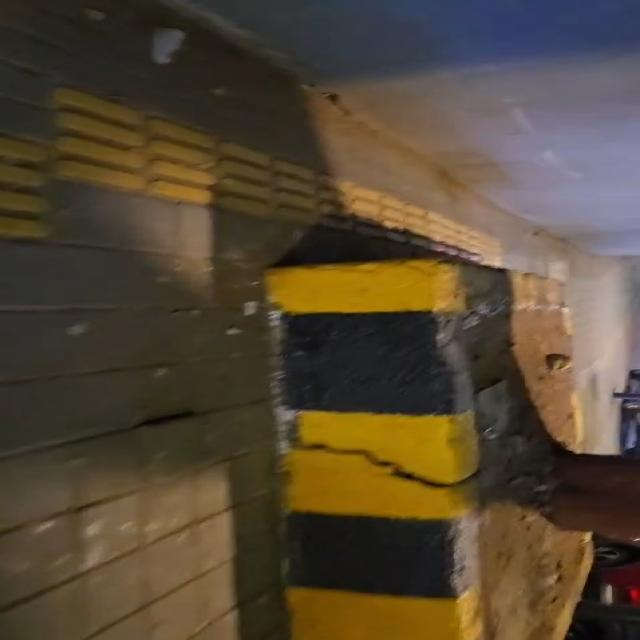obstacle: (268, 274, 570, 639)
